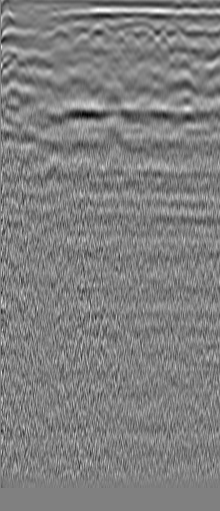오수: (30, 23, 50, 43)
우수: (176, 50, 196, 70)
